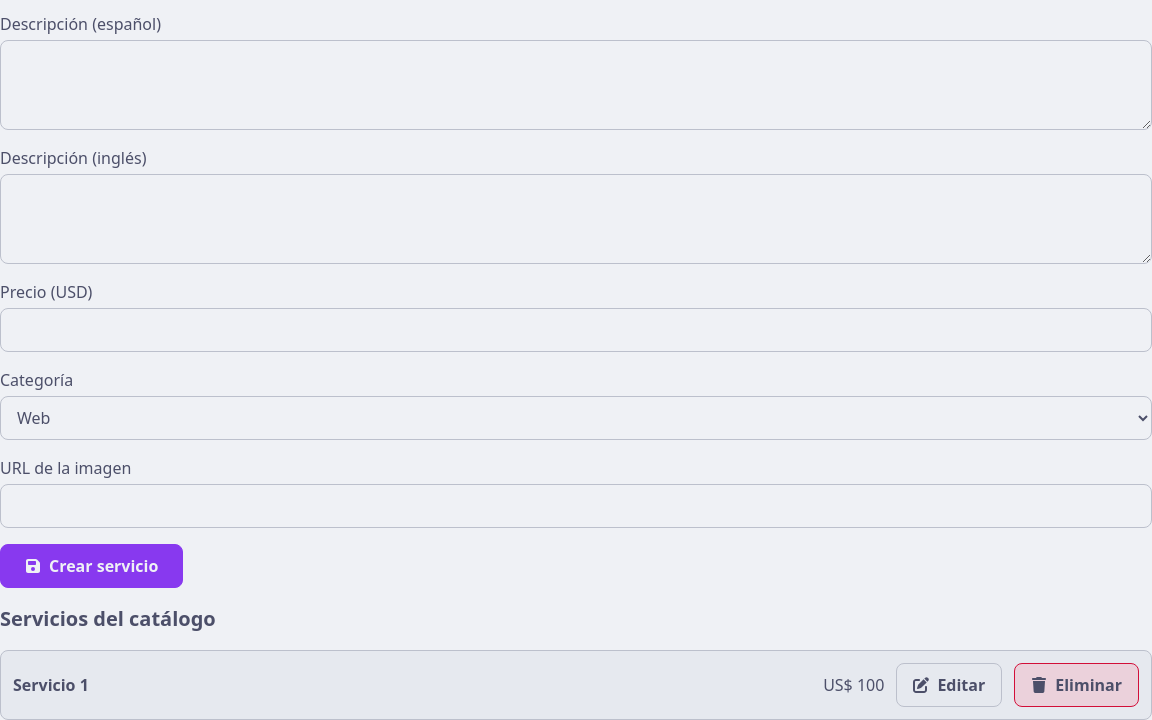
Test case: Gestion › edit › keeps my changes and shows an alert when the update fails
(page scrolled)
Expected: the list is shown, [0,650,1151,719]
Step 1. Click the button with aria-label "Editar Servicio 1" → point(949, 685), box [896,663,1002,707]
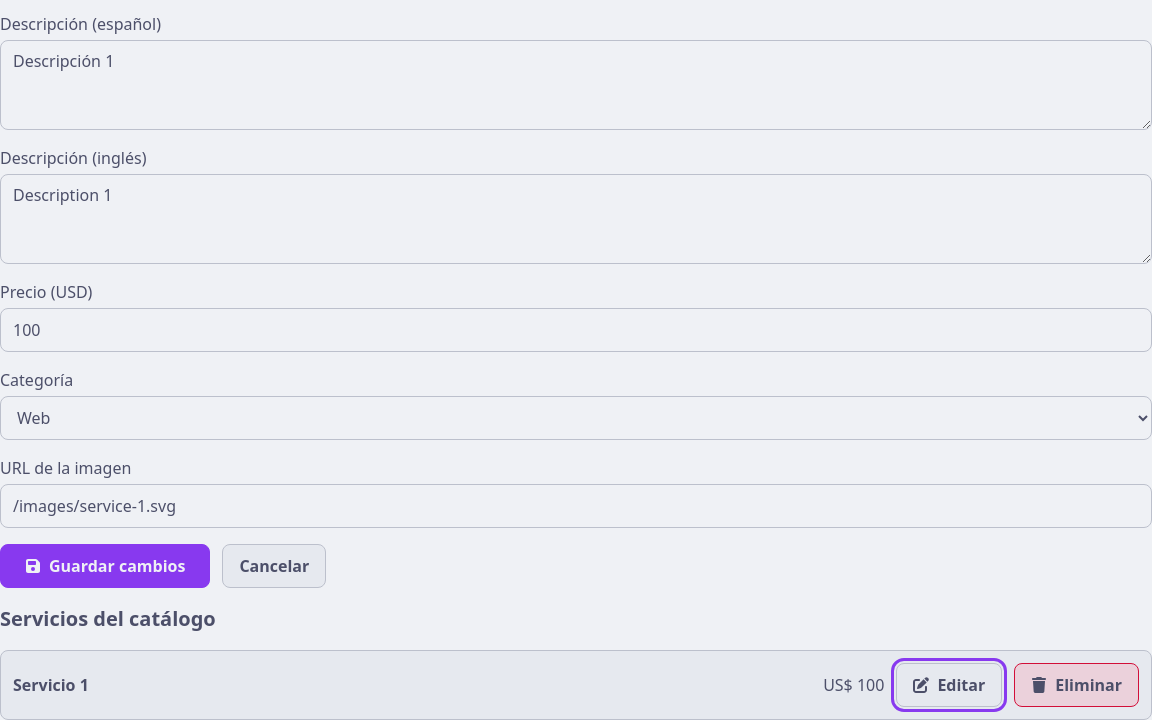
Step 2. Replace the text in the number field labelled "Precio (USD)" with "777" → point(576, 330), box [0,308,1151,352]
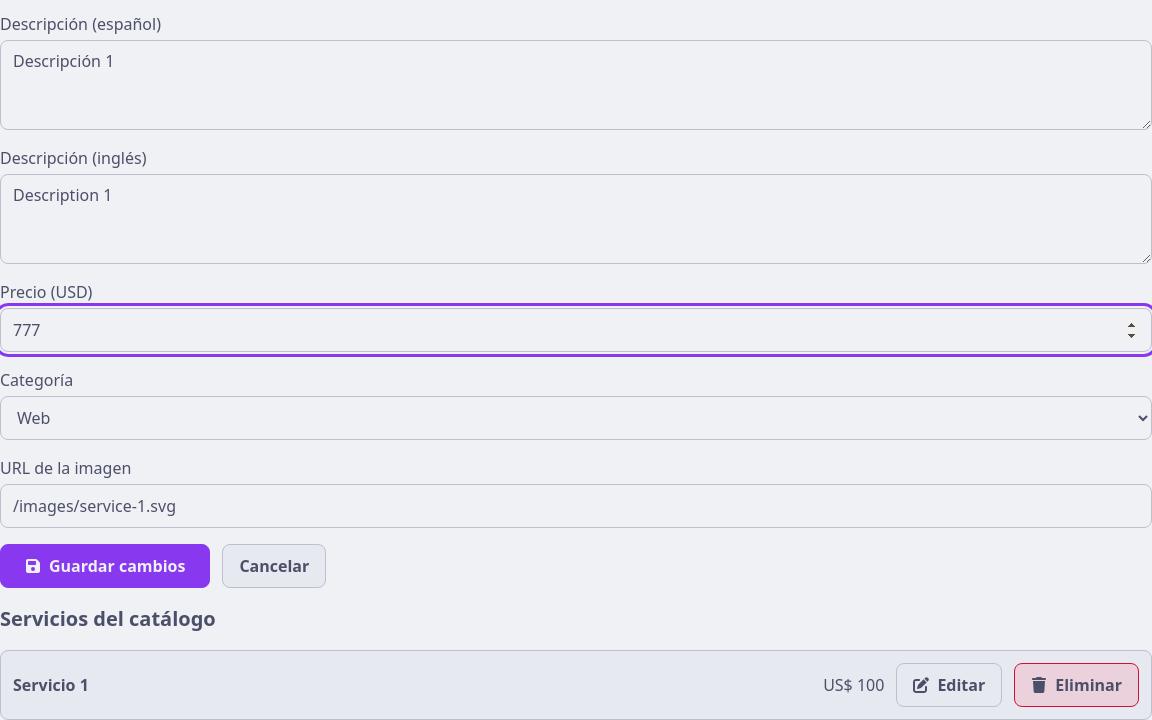
Step 3. Click the button "Guardar cambios" → point(105, 566), box [0,544,210,588]
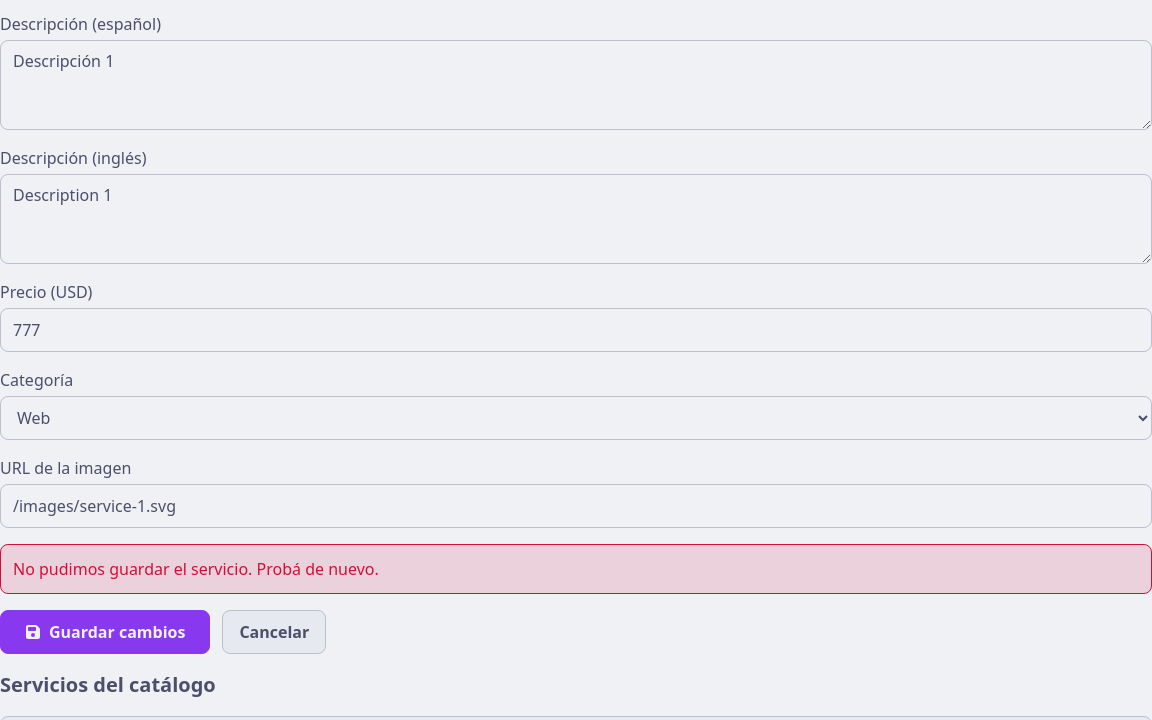
Now the message shows "No pudimos guardar el servicio", box [13,558,379,580]
